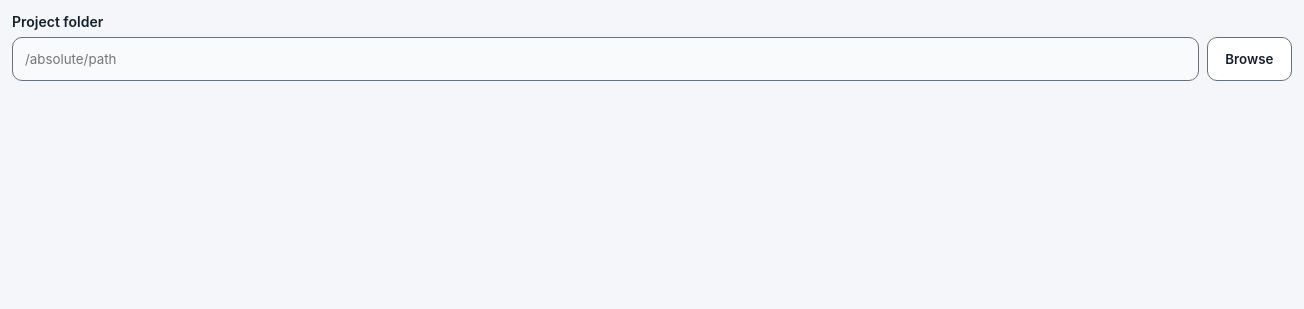
it: FolderPicker › browses folders, goes up and picks one
The width and height of the screenshot is (1304, 309).
Click the button with aria-label "Browse folders for Project folder": click(1249, 59) [1207,37,1292,81]
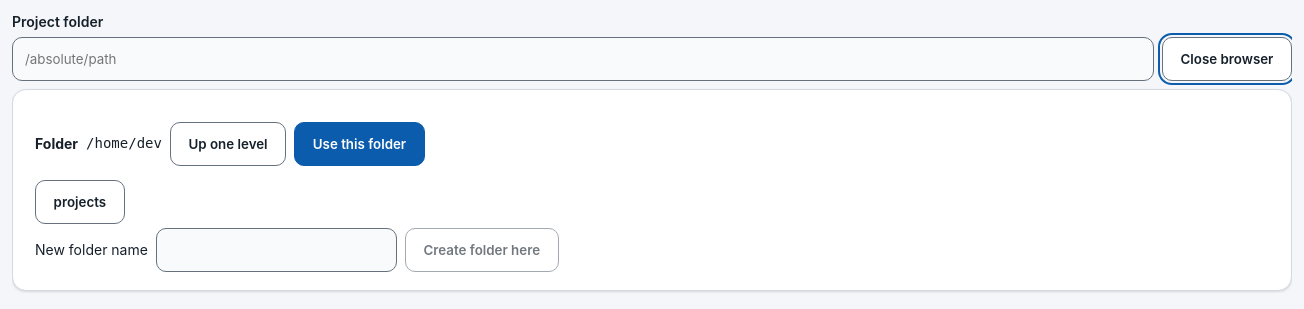
Click the button with aria-label "Open projects": click(80, 202) [35,180,125,224]
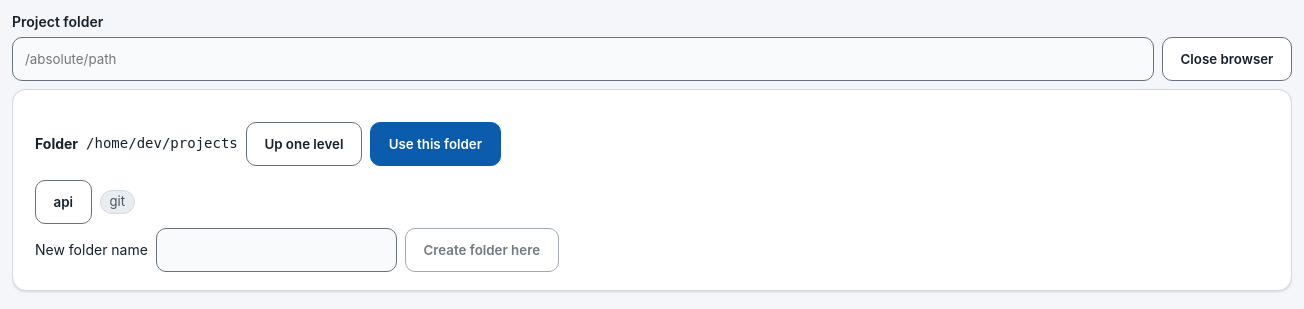
Result: the text "git" is shown at [100,190,135,214]
In the field labelled "New folder name": (276, 250) [156,228,397,272], type "fresh"
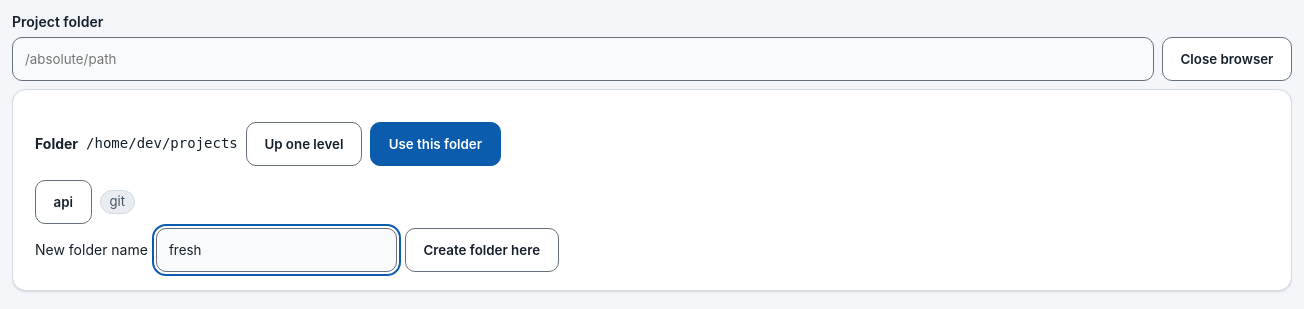
Click the button "Create folder here": click(482, 250) [405,228,559,272]
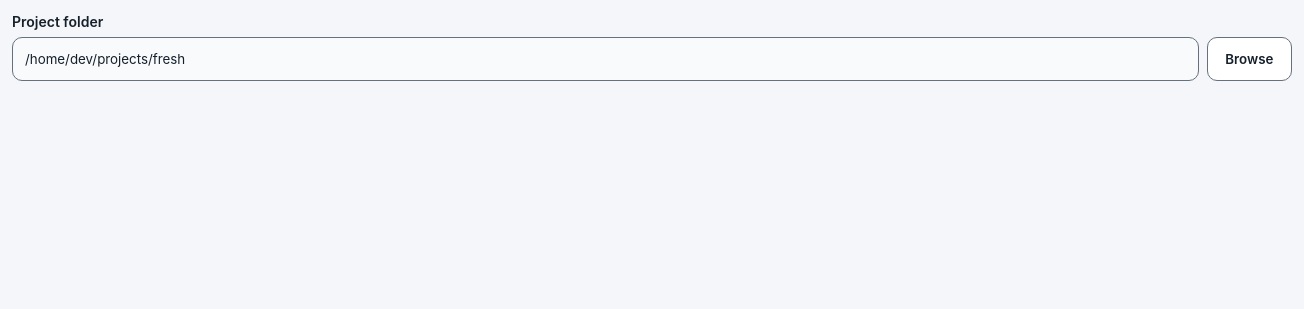
Result: the field labelled "Project folder" holds "/home/dev/projects/fresh" at [12,37,1199,81]
